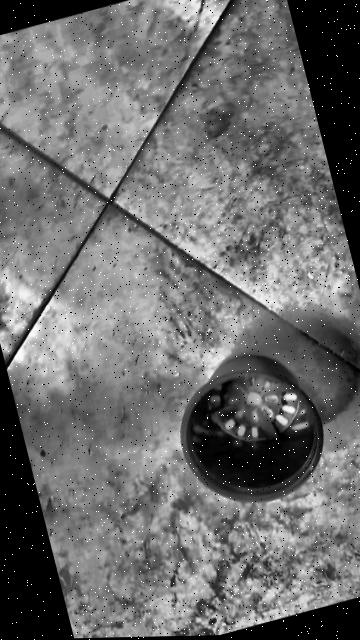pot: (164, 338, 338, 519)
